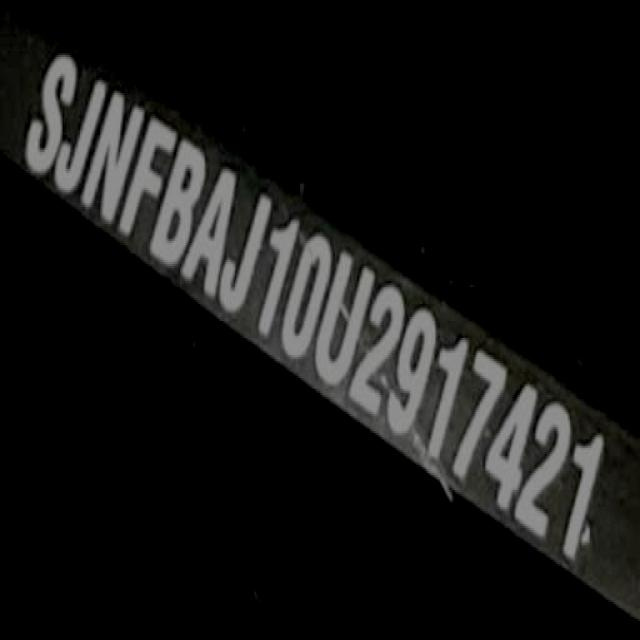0: (283, 232, 331, 358)
1: (554, 420, 620, 573), (244, 199, 305, 355), (413, 328, 475, 477)
2: (340, 274, 415, 432), (514, 392, 580, 552)
4: (478, 367, 544, 524)
7: (444, 344, 513, 502)
9: (387, 303, 437, 435)
A: (177, 152, 242, 310)
B: (146, 134, 218, 285)
F: (117, 114, 178, 237)
J: (208, 178, 286, 340), (58, 74, 108, 188)
N: (80, 90, 144, 222)
S: (26, 52, 77, 176)
U: (316, 248, 374, 386)
